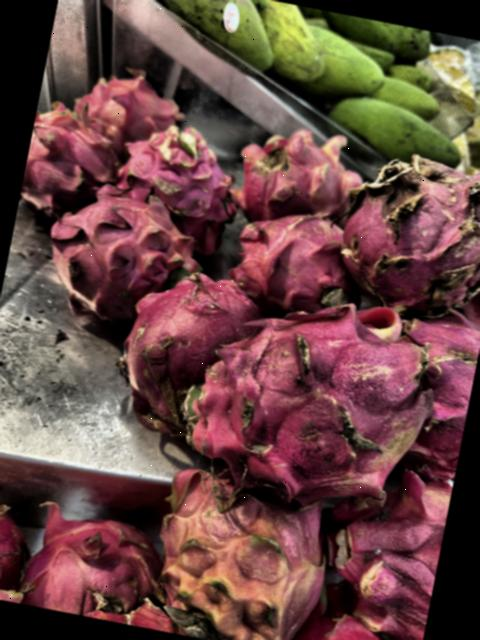buah-naga-belum-matang: (176, 290, 435, 506), (132, 446, 351, 640), (335, 463, 453, 640), (228, 118, 360, 219)
buah-naga-matang: (327, 135, 480, 316), (118, 270, 260, 438), (13, 494, 180, 630), (39, 168, 201, 302), (224, 206, 371, 322), (118, 124, 252, 250), (378, 313, 480, 464), (19, 100, 119, 214), (64, 55, 180, 144), (0, 493, 38, 601)
